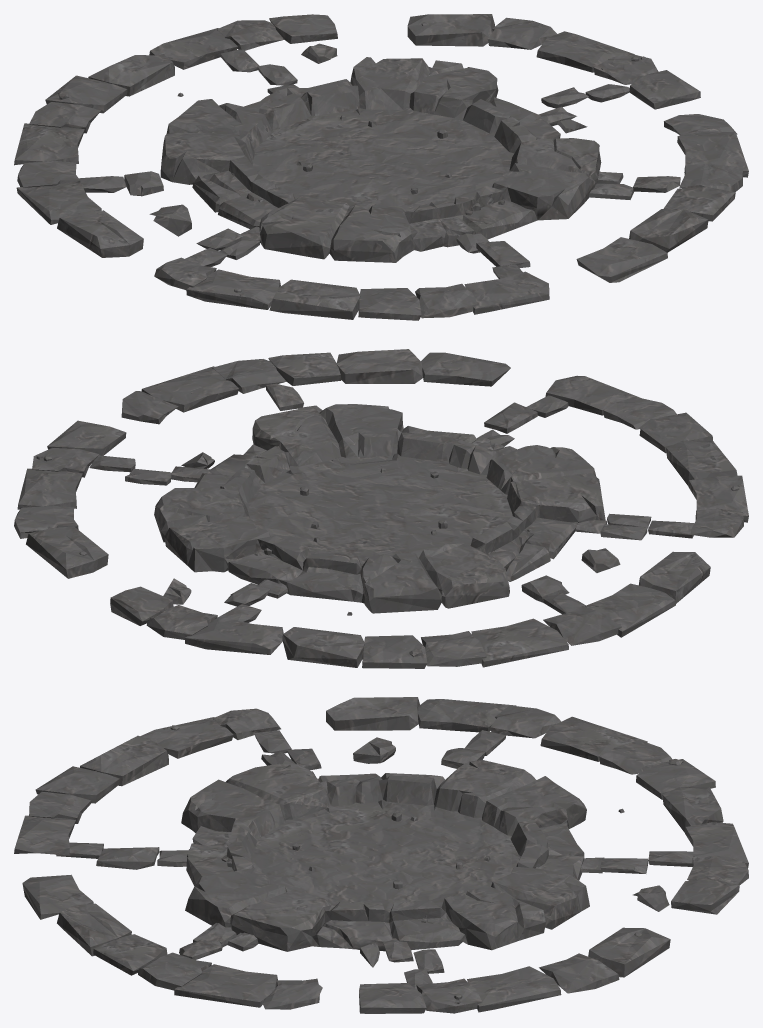
The model's file is SM_Central_Island_Pentagram.fbx.
3 renders of one model, top to bottom at view 1: azimuth 30°, elevation 25°; view 2: azimuth 150°, elevation 25°; view 3: azimuth 270°, elevation 25°, orthographic. The views are drawn at different scales.
Parts seen in each view (by area): view 1: SM_Central_Island_Pentagram; view 2: SM_Central_Island_Pentagram; view 3: SM_Central_Island_Pentagram.
Boxes of the visible parts, left/top/right/bottom form: SM_Central_Island_Pentagram: left=14, top=14, right=748, bottom=320; SM_Central_Island_Pentagram: left=14, top=349, right=748, bottom=668; SM_Central_Island_Pentagram: left=14, top=697, right=748, bottom=1013.
Bounding box in the file's own units: 13.25 × 0.6245 × 13.28.
Materials: 1 (1 with a texture image).
